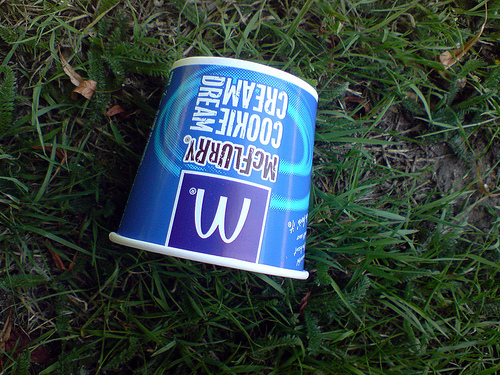litter: (108, 56, 317, 282)
